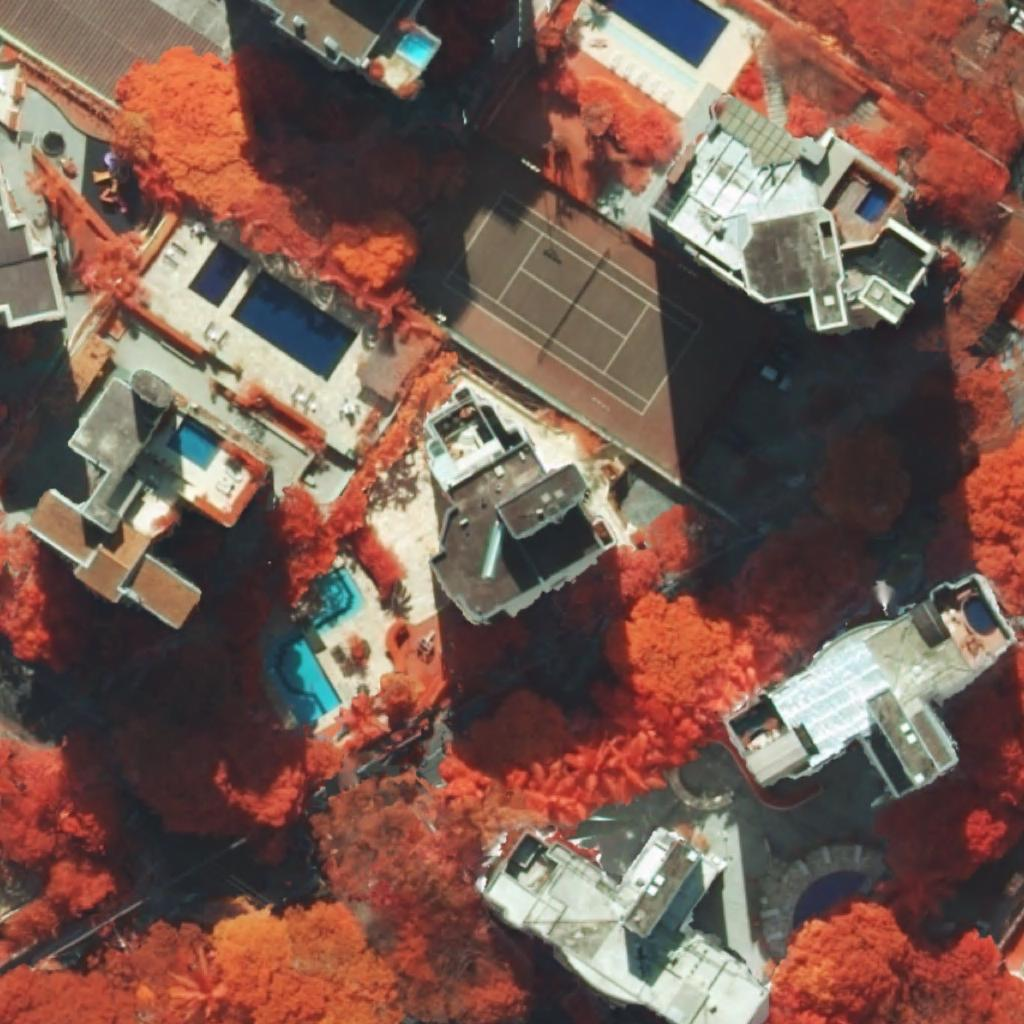pool: (229, 269, 359, 383), (594, 0, 730, 69), (262, 627, 343, 725), (188, 240, 251, 309), (313, 565, 364, 635), (167, 420, 221, 471), (855, 181, 895, 223), (964, 595, 999, 636), (398, 33, 435, 65)
